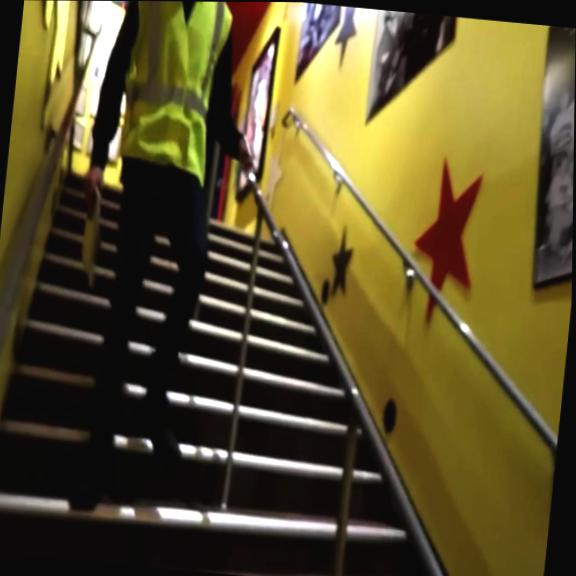safety_vest: (109, 1, 236, 186)
